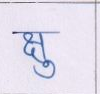u_matra: (32, 61, 58, 79)
